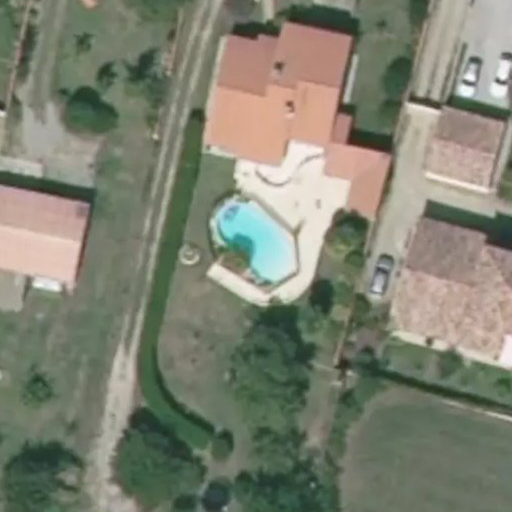pool: (208, 224, 307, 257)
